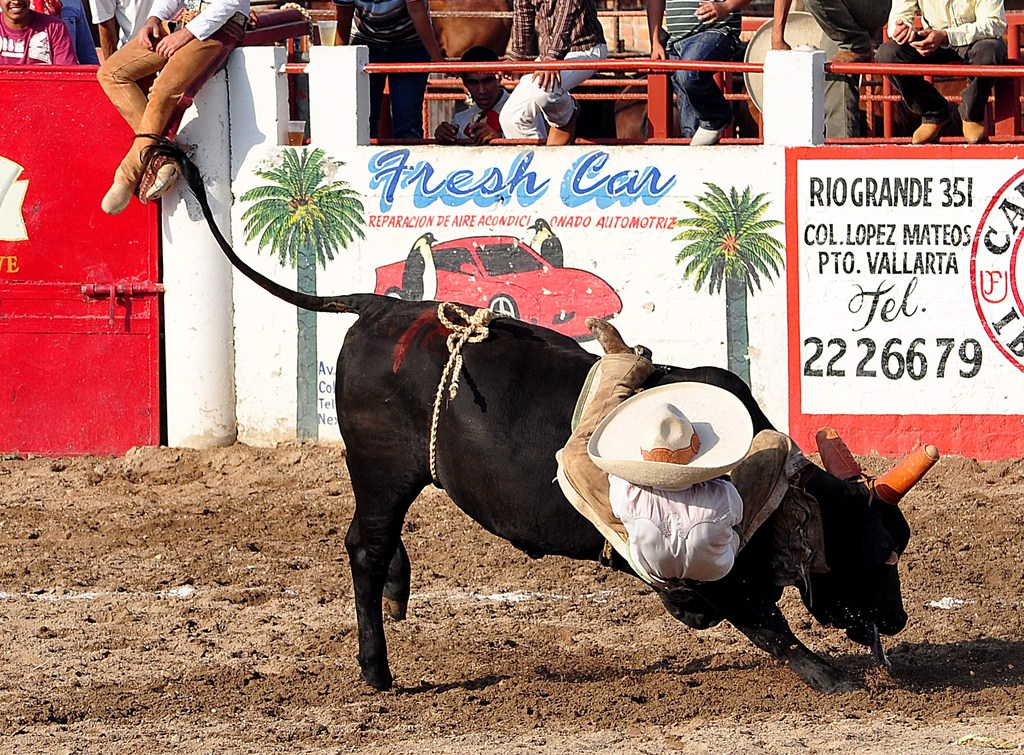Person: (0, 0, 1007, 210), (554, 316, 866, 591)
